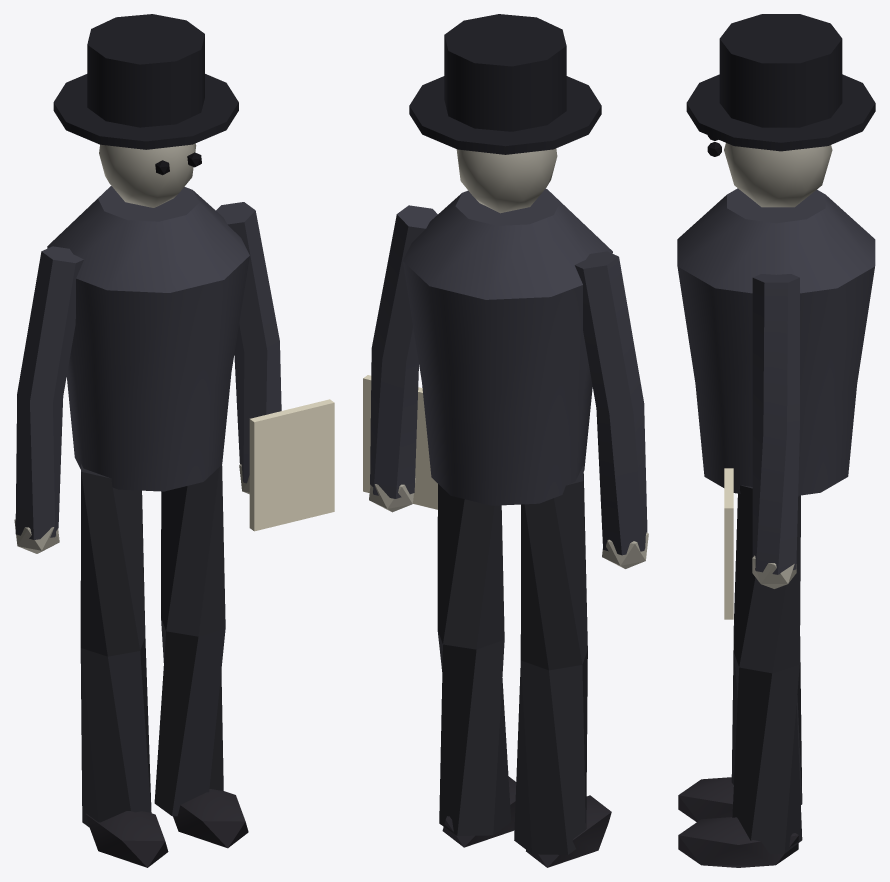
Rendered from petitioner.glb.
3 renders of one model, left to right at view 1: azimuth 30°, elevation 25°; view 2: azimuth 150°, elevation 25°; view 3: azimuth 270°, elevation 25°, orthographic. The views are drawn at different scales.
Parts seen in each view (by area): view 1: petitioner; view 2: petitioner; view 3: petitioner.
Part boxes in pixels (x1,y1,x2,y2): petitioner: (14, 14, 334, 867); petitioner: (363, 14, 648, 867); petitioner: (677, 14, 875, 867).
Size of the model in its own units: 0.7295 by 1.89 by 0.4192.
